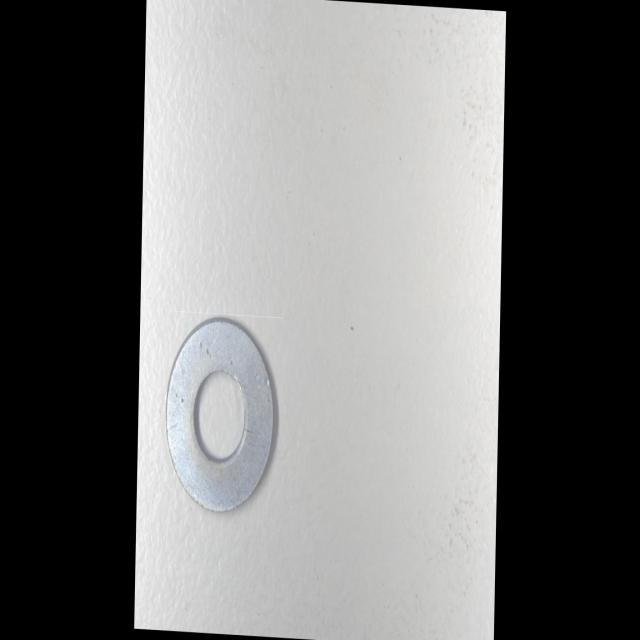washer: (167, 314, 279, 518)
